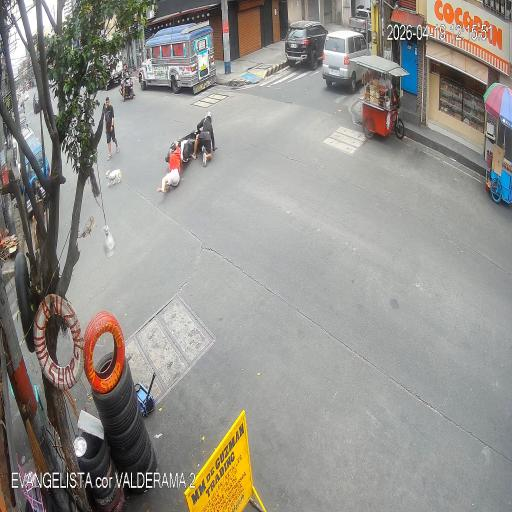Car: (323, 30, 368, 90), (285, 20, 327, 66), (348, 9, 372, 37)
Motor: (165, 127, 212, 163), (121, 66, 134, 98)
